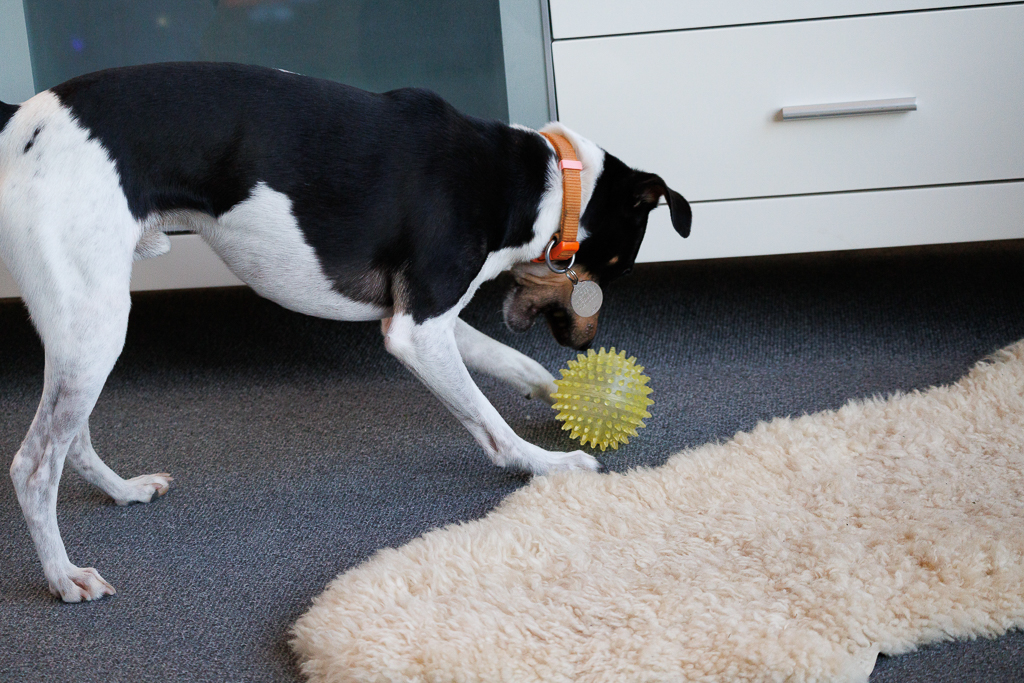Dog: (0, 49, 698, 610)
